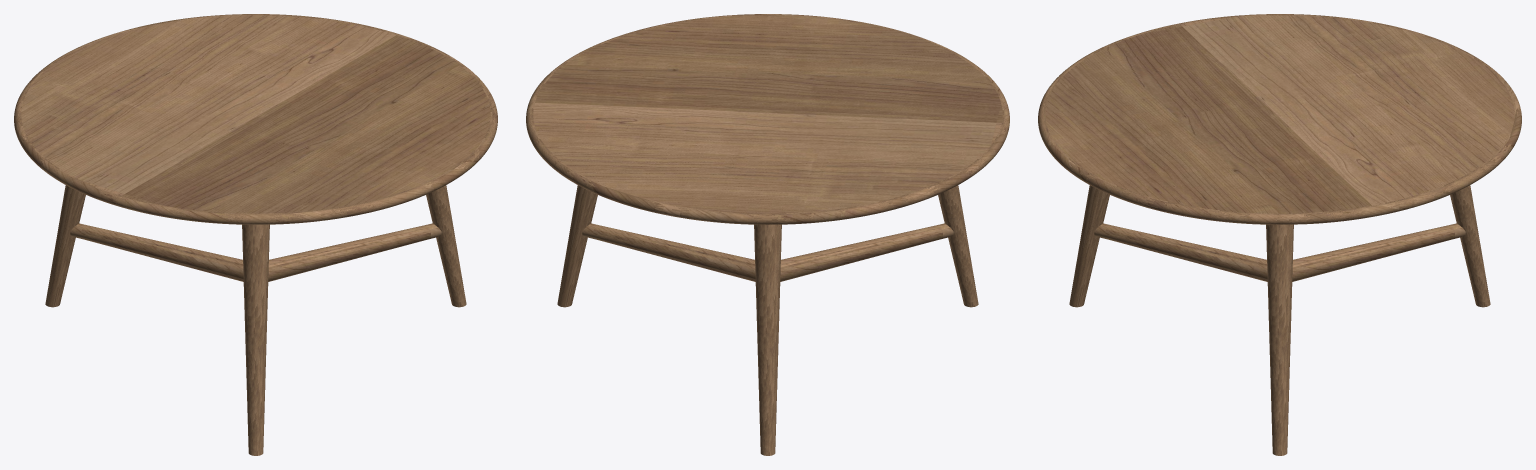
File: coffee_table_round.glb
3 views of the same model, side by side, from view 1: azimuth 30°, elevation 25°; view 2: azimuth 150°, elevation 25°; view 3: azimuth 270°, elevation 25° (orthographic).
Visible parts, largest first — view 1: Geom3D; view 2: Geom3D; view 3: Geom3D.
Part boxes in pixels (left/top/right/bottom): Geom3D: left=14, top=14, right=497, bottom=455; Geom3D: left=526, top=14, right=1009, bottom=455; Geom3D: left=1038, top=14, right=1521, bottom=455.
Size of the model in its own units: 0.8381 by 0.4572 by 0.8381.
Materials: 3 (3 with a texture image).
